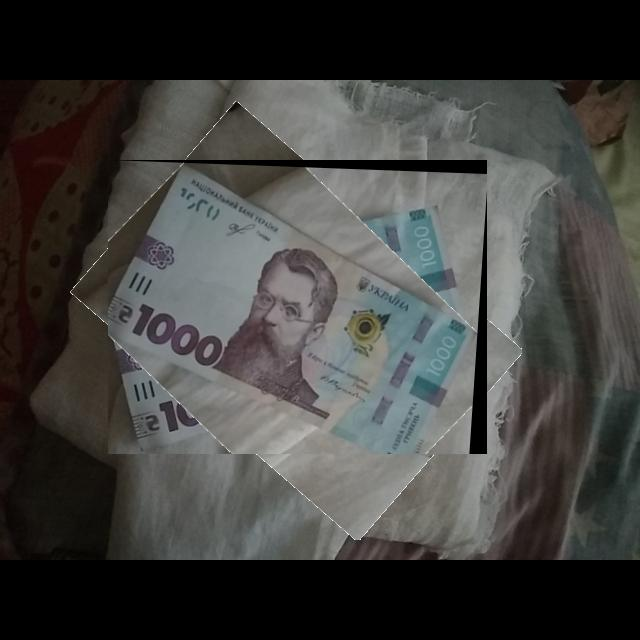1000uah: (108, 164, 479, 455)
